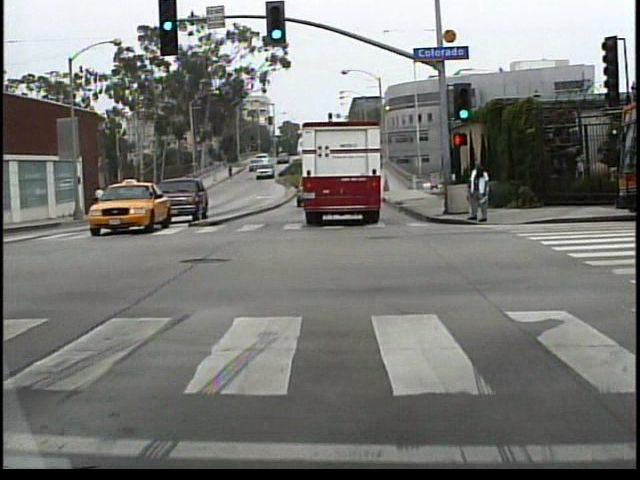person: (465, 162, 490, 225), (96, 184, 121, 216)
